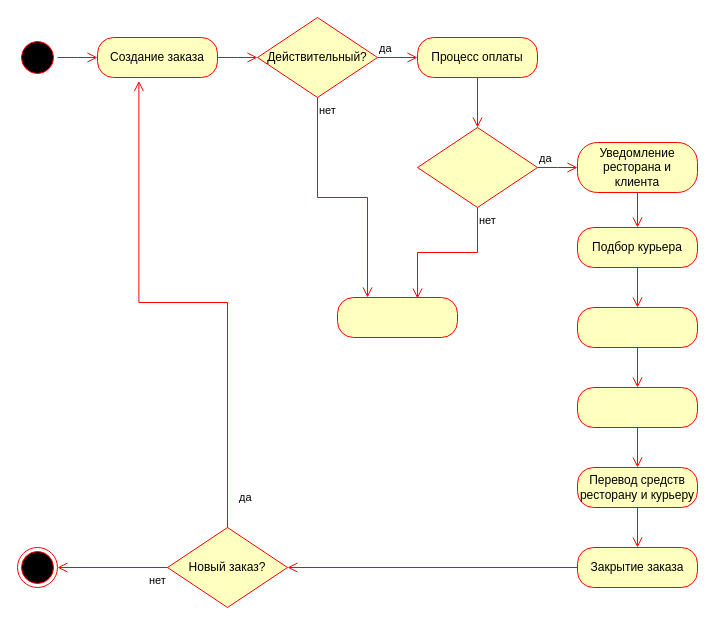
This 715x625 diagram has some shape labels left out. Each missing label, with the centre of its shape:
Выдача заказа курьеру: the point at 637,327
Доставка заказа курьером: the point at 637,407
Оповещение пользователя: the point at 397,317
Успешная оплата?: the point at 477,167
